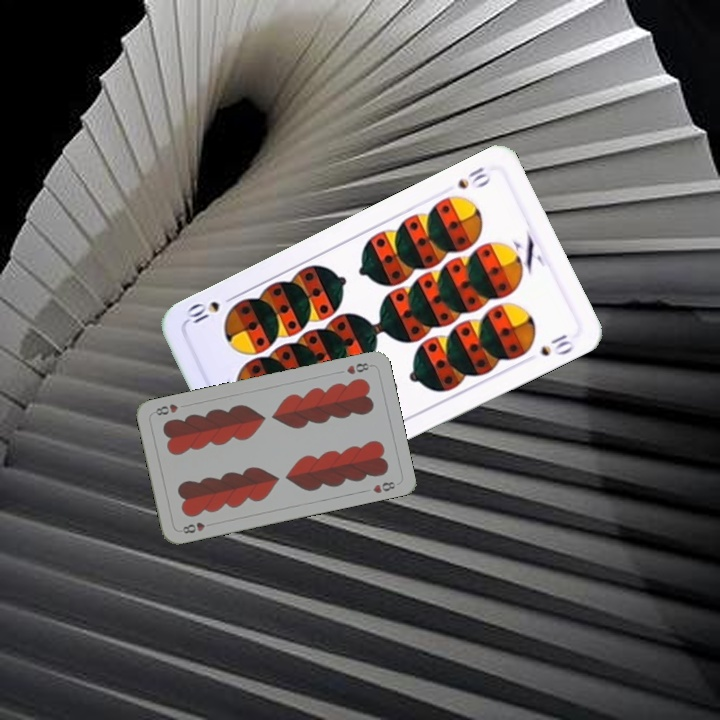H8: (343, 359, 374, 377), (179, 518, 207, 536)
S10: (453, 163, 494, 192)
